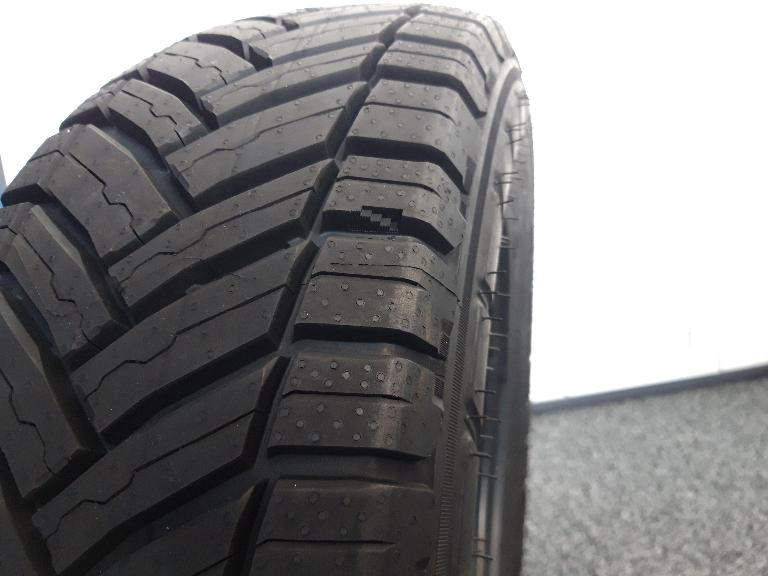temoin:100: (348, 205, 404, 236)
